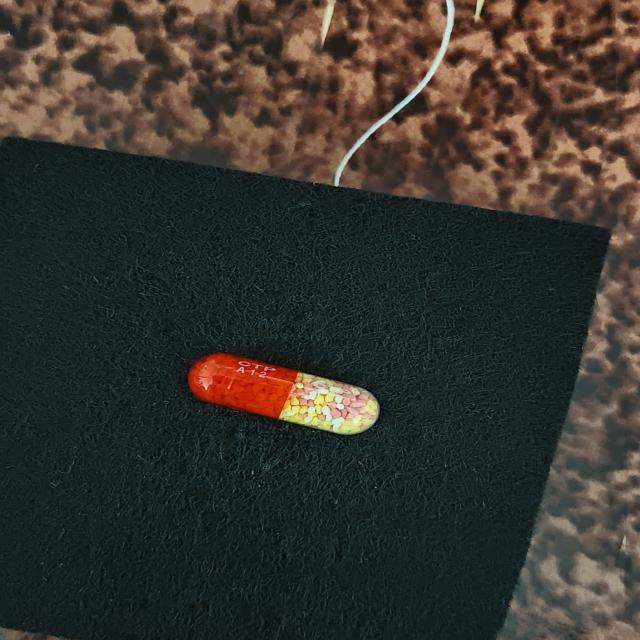Intact Capsule: (188, 353, 380, 435)
